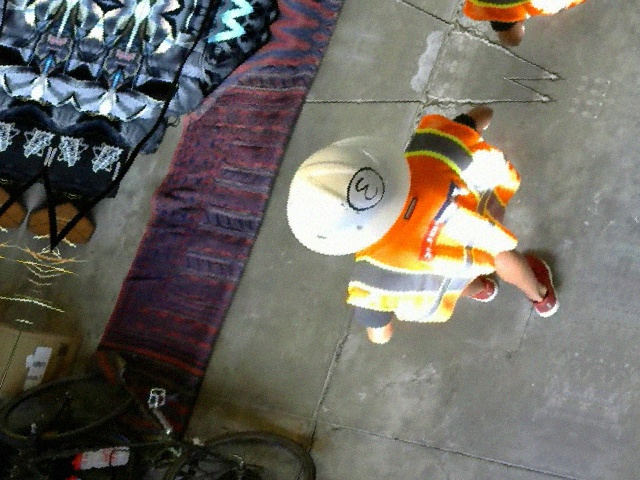three: (341, 163, 392, 214)
